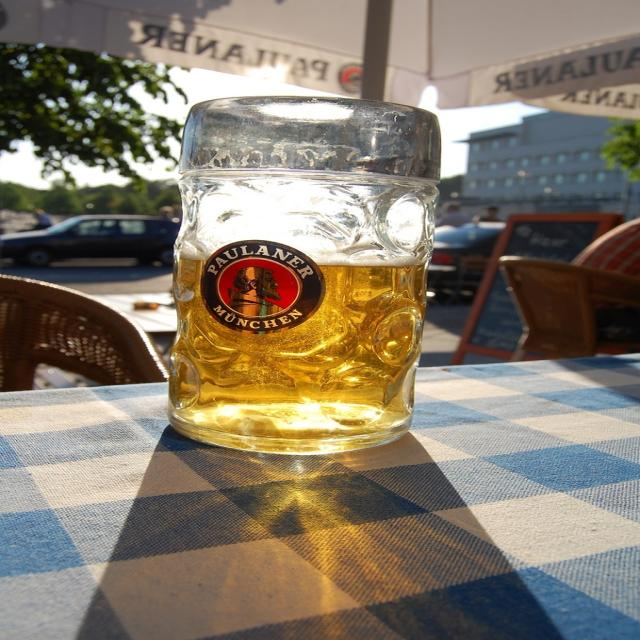paulaner: (199, 241, 325, 335)
